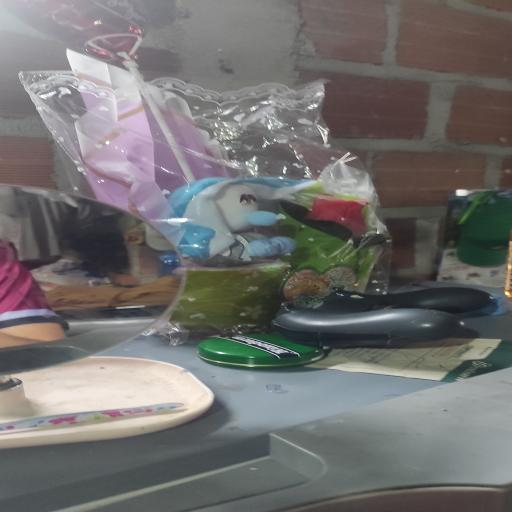ControlPlay4: (272, 287, 493, 348)
